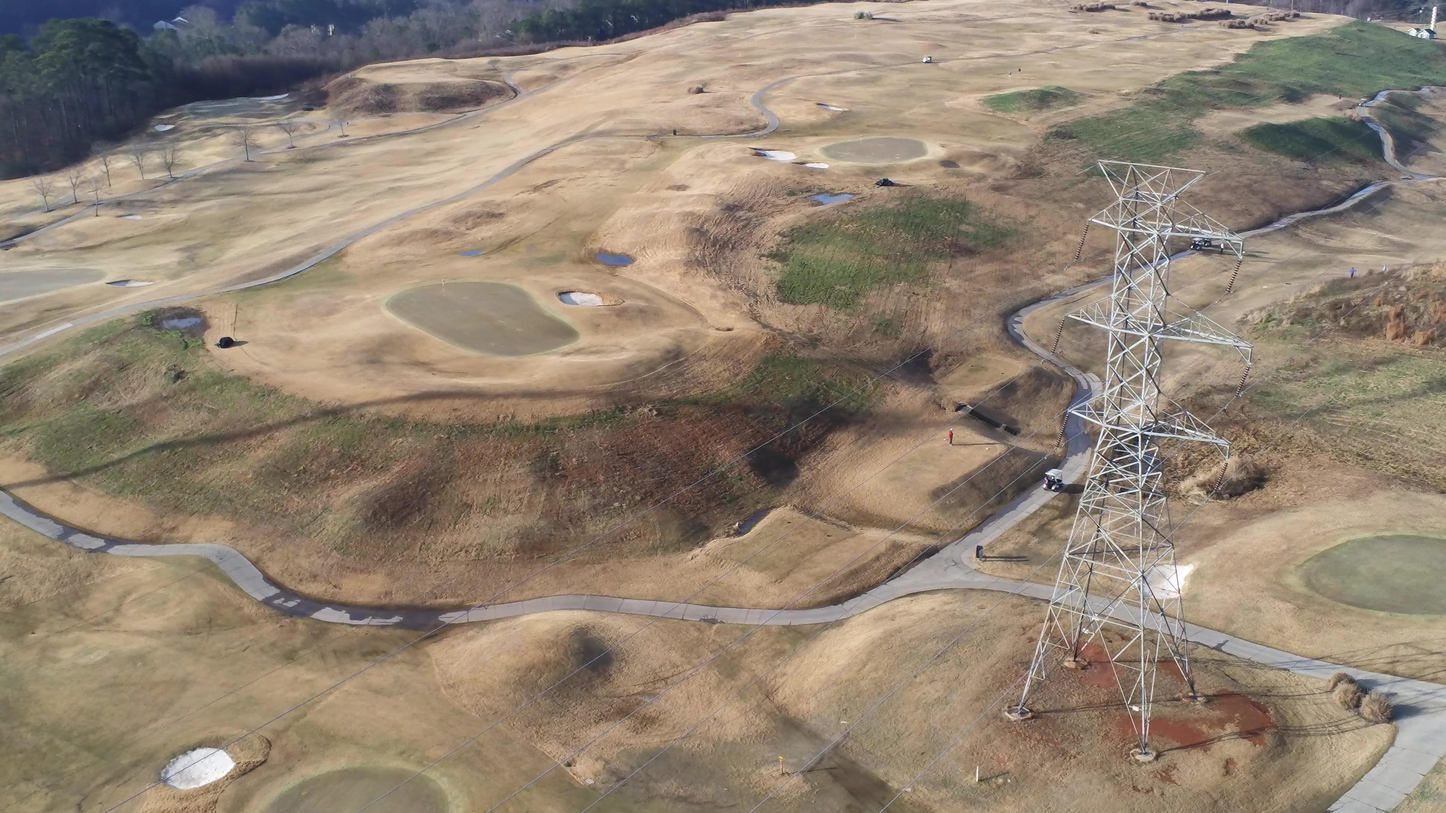power_tower: (1017, 158, 1254, 751)
